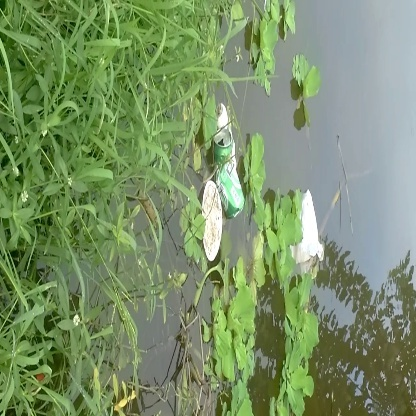bottle: (209, 127, 255, 222)
